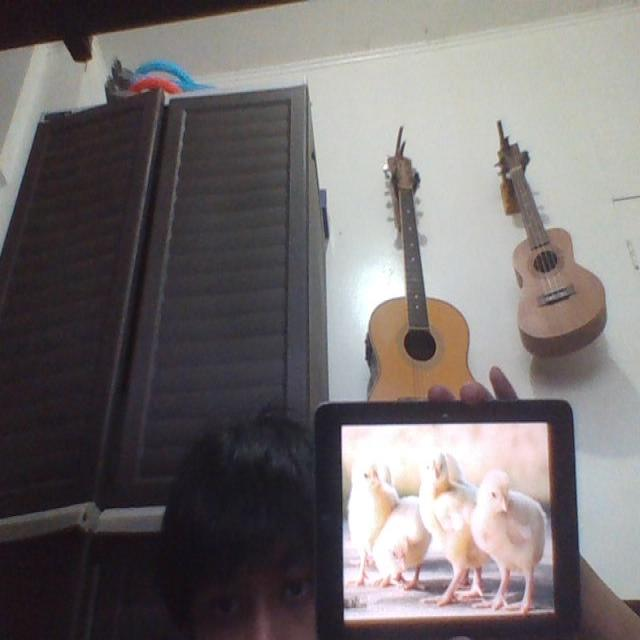Healthy: (417, 452, 488, 602), (472, 466, 538, 610), (348, 457, 390, 544)
Sick: (376, 497, 429, 588)
